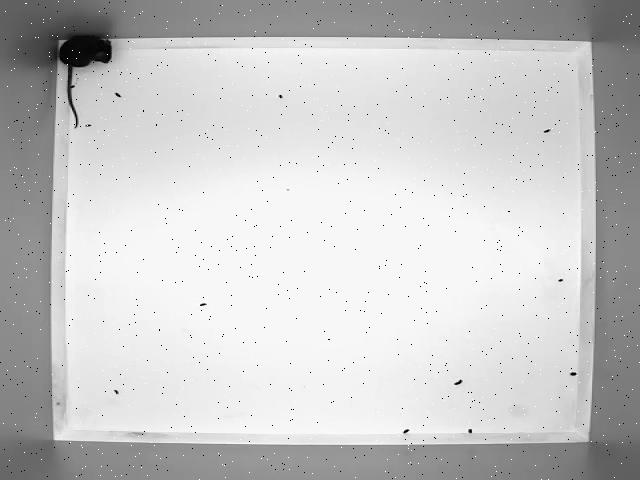Tikus: (55, 34, 126, 129)
